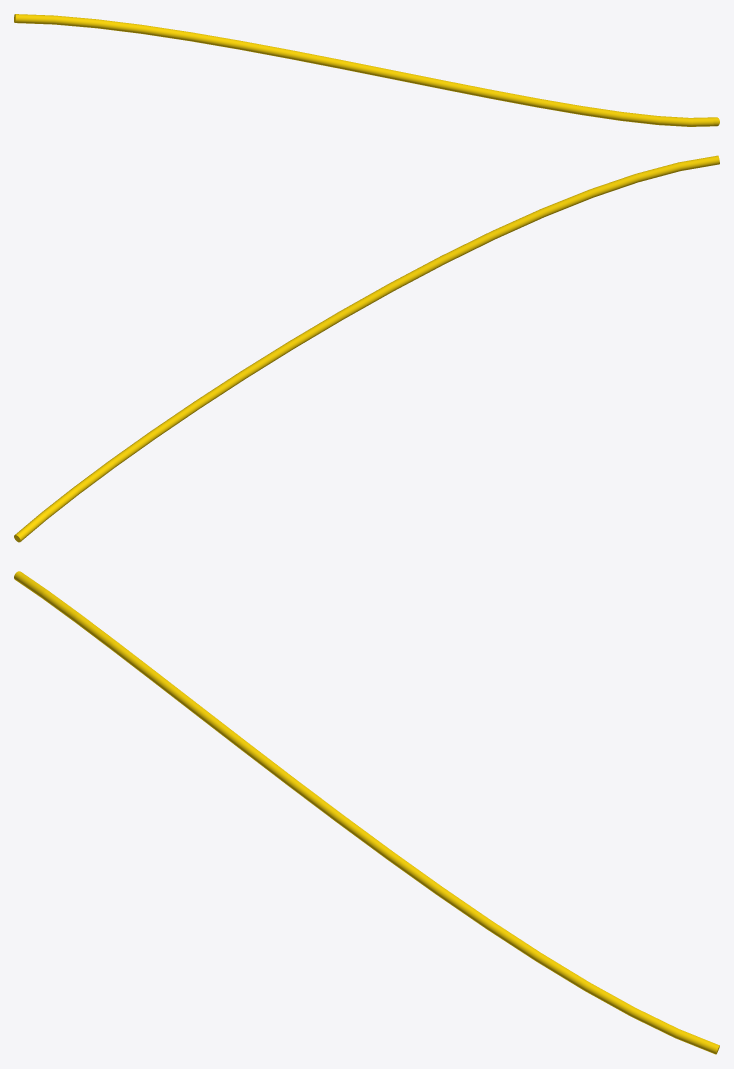
The model's file is Event_421115418_track_103.fbx.
3 renders of one model, top to bottom at view 1: azimuth 30°, elevation 25°; view 2: azimuth 210°, elevation 25°; view 3: azimuth 330°, elevation 25°, orthographic. The views are drawn at different scales.
Visible parts, largest first — view 1: Model; view 2: Model; view 3: Model.
Part boxes in pixels (x1,y1,x2,y2): Model: (14, 14, 719, 126); Model: (14, 155, 719, 542); Model: (14, 571, 719, 1054).
Size of the model in its own units: 3.41 by 1.21 by 0.4624.
